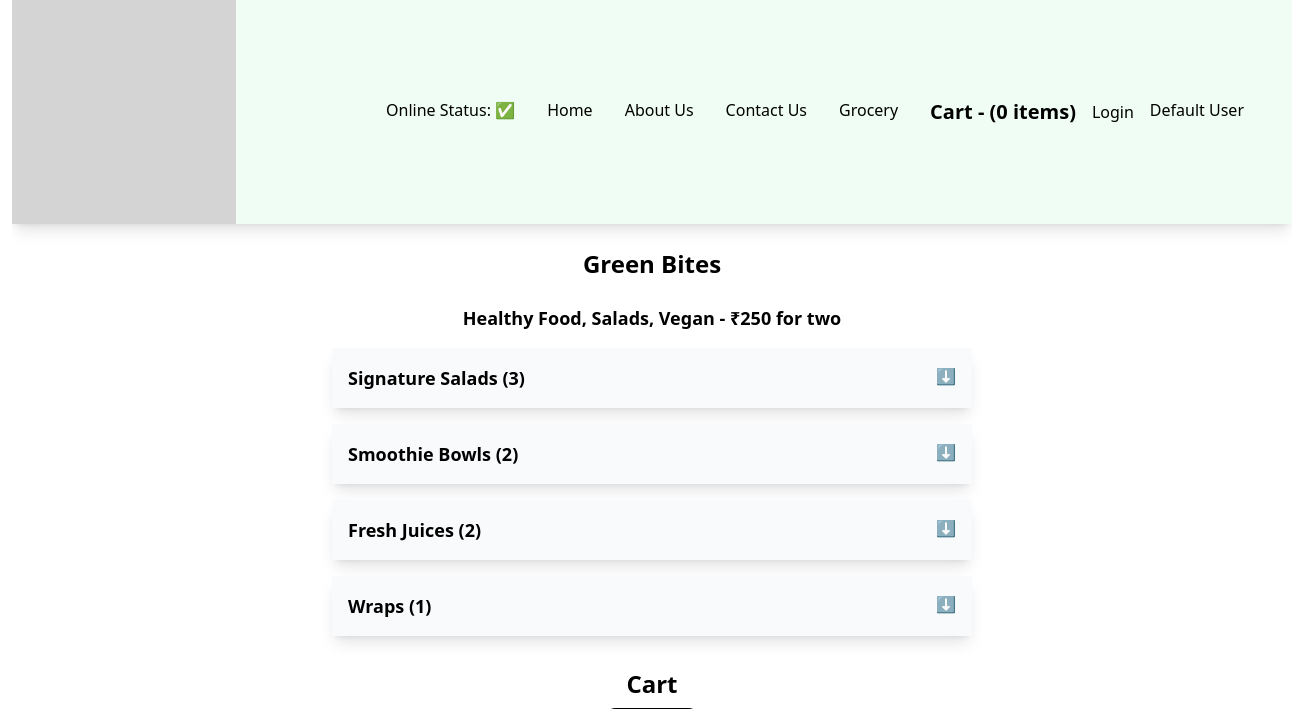
Test: Cart Item Test Cases › Should add an item to the cart when 'Add to Cart' button is clicked
The width and height of the screenshot is (1292, 709).
Expected: the link "Cart - (0 items)" is shown, [930,98,1076,125]
Select the "Signature Salads" accordion and click it to expand
Step 1. Click the text "Signature Salads (3)" → (436, 378), box [348,364,525,392]
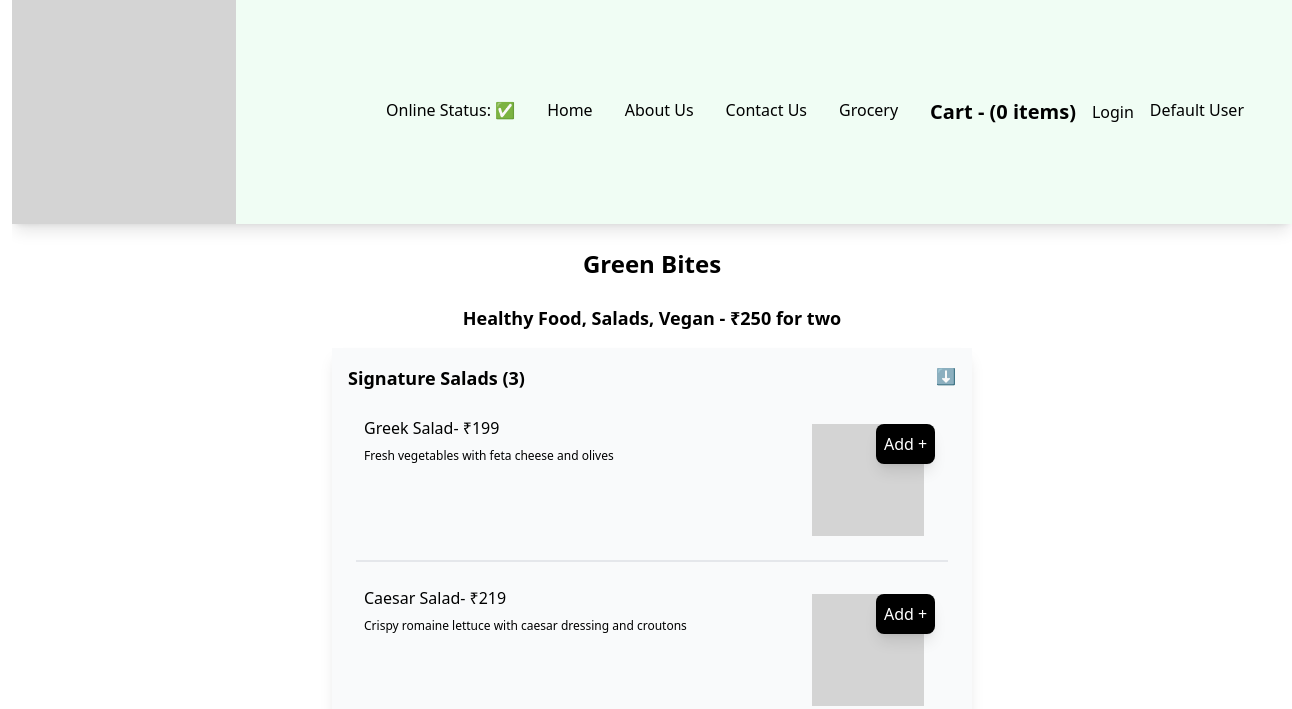
Expected: the number of elements with test id "foodItems" is 3
Click the "Add to Cart" button for the first food item
Step 2. Click the button "Add +" in the row of "199" → (906, 444), box [876,424,935,464]
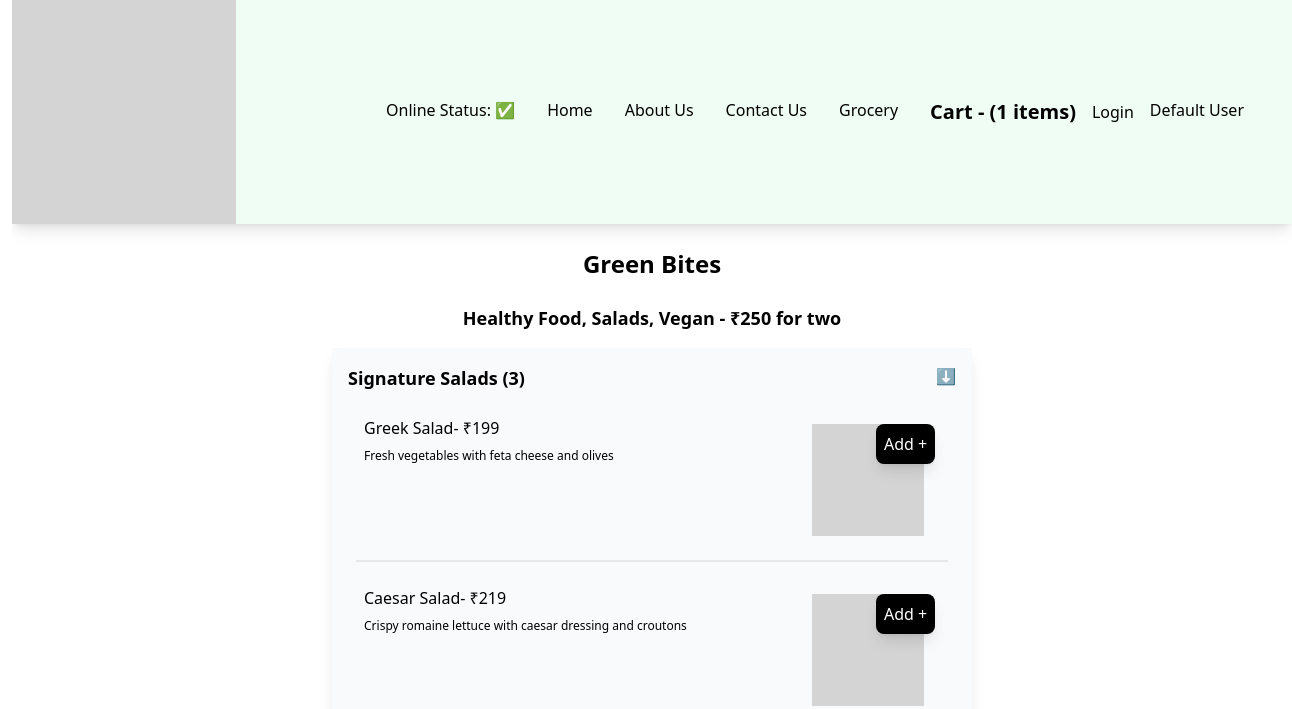
Expected: the link "Cart - (1 items)" is shown, [930,98,1076,125]
Click the "Add to Cart" button for the first food item again
Step 3. Click the 1st button "Add +" → (906, 444), box [876,424,935,464]
(page scrolled)
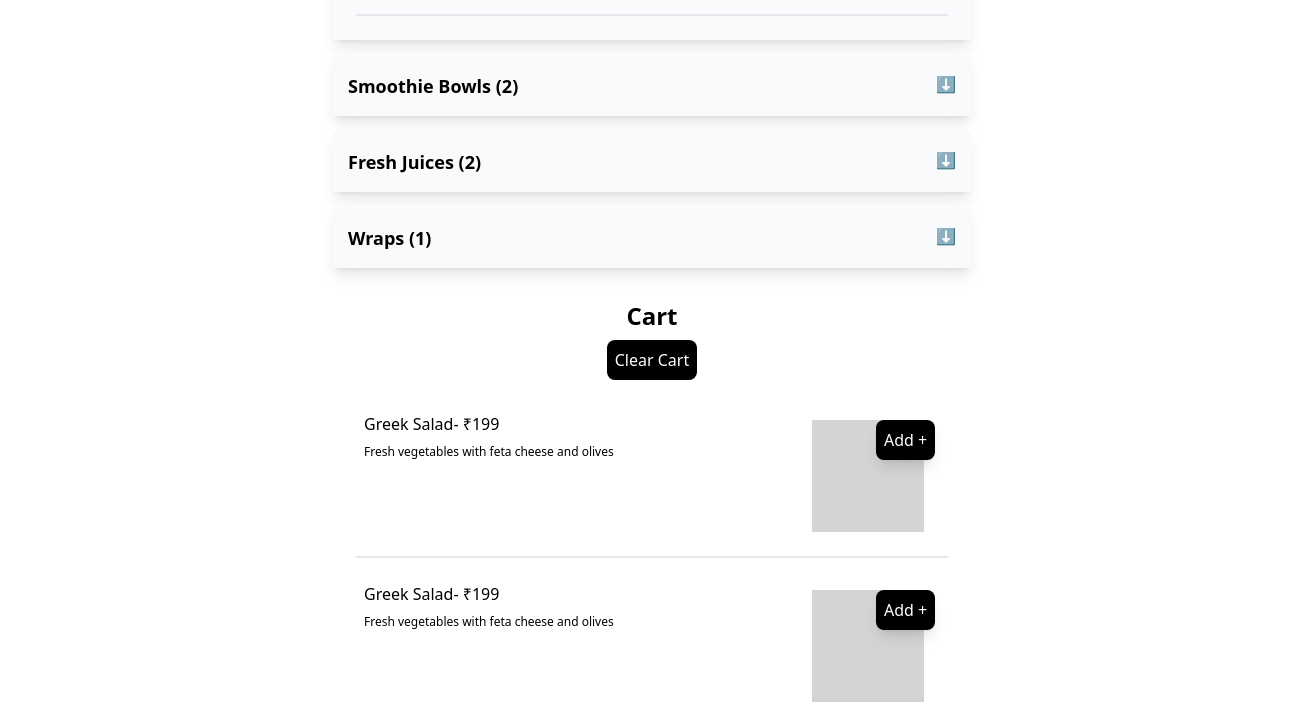
Expected: the number of elements with test id "foodItems" is 5
Click the "Clear Cart" button to remove all items from the cart
Step 4. Click the button "Clear Cart" → (652, 360), box [607,340,697,380]
(page scrolled)
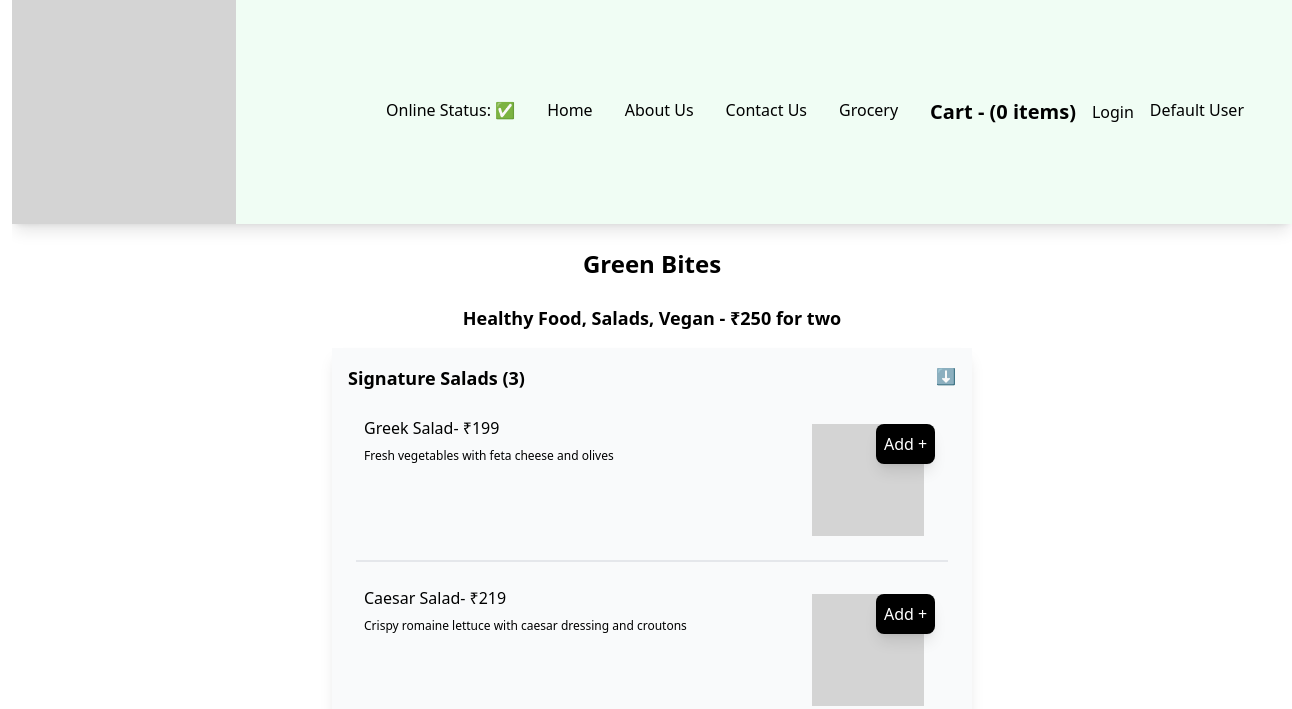
Expected: the link "Cart - (0 items)" is shown, [930,98,1076,125]
Expected: the number of elements with test id "foodItems" is 3
